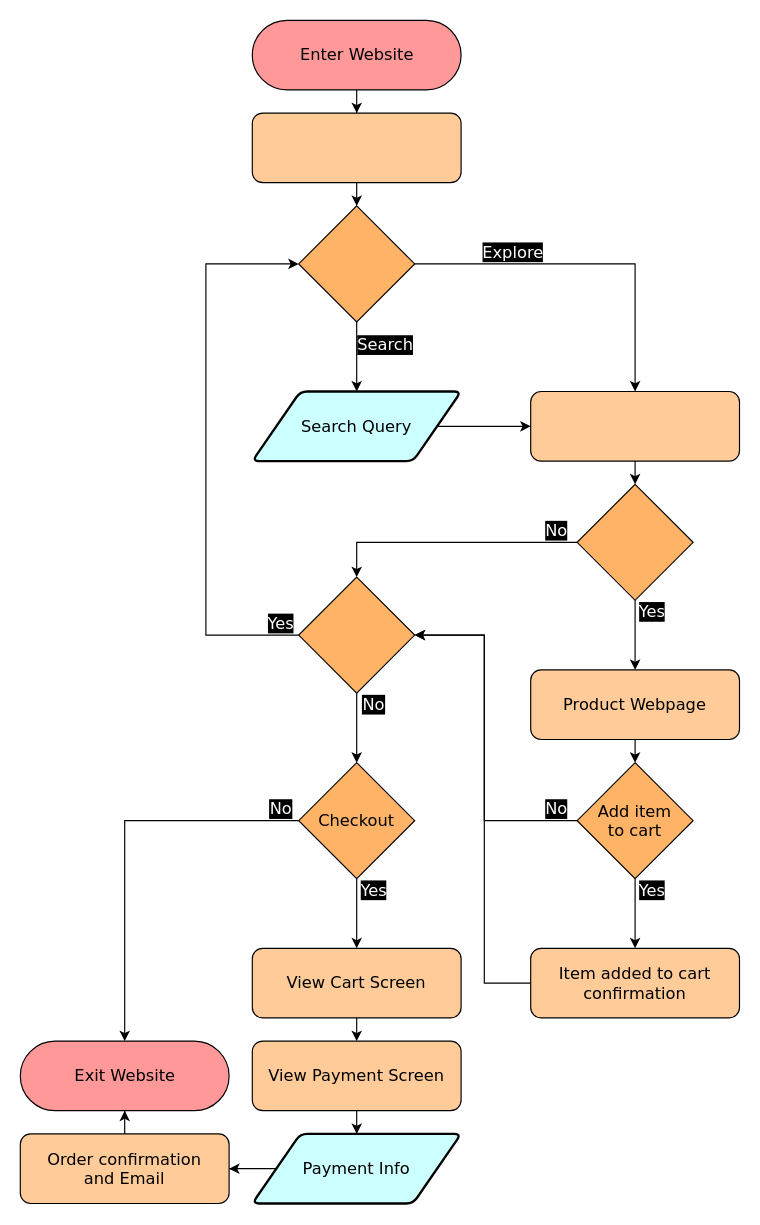
Image size: 760x1225. Some labels were removed from this diagram. The centre of each missing label's shape, as x and y in pixels:
Continue Shopping: [356,634]
Search or Explore: [356,263]
View Product: [634,541]
View products: [635,425]
Website Homepage: [356,147]
